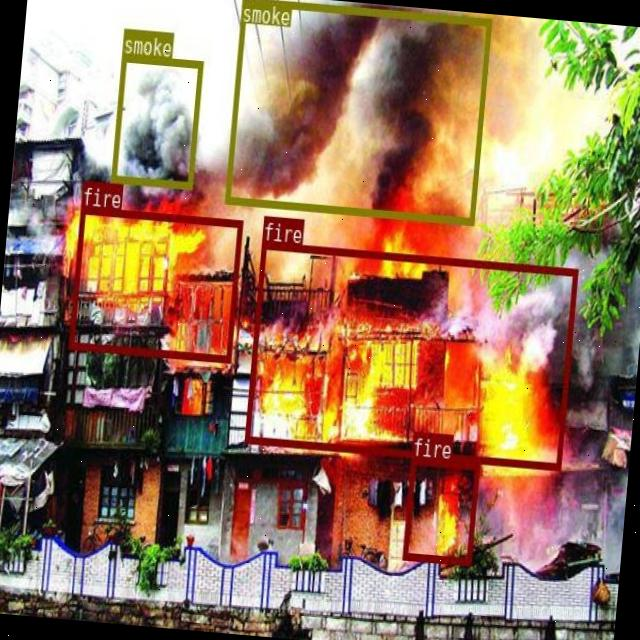fire: (244, 242, 576, 468), (68, 205, 242, 362), (402, 454, 478, 563)
smoke: (224, 0, 491, 224), (110, 53, 202, 188)
